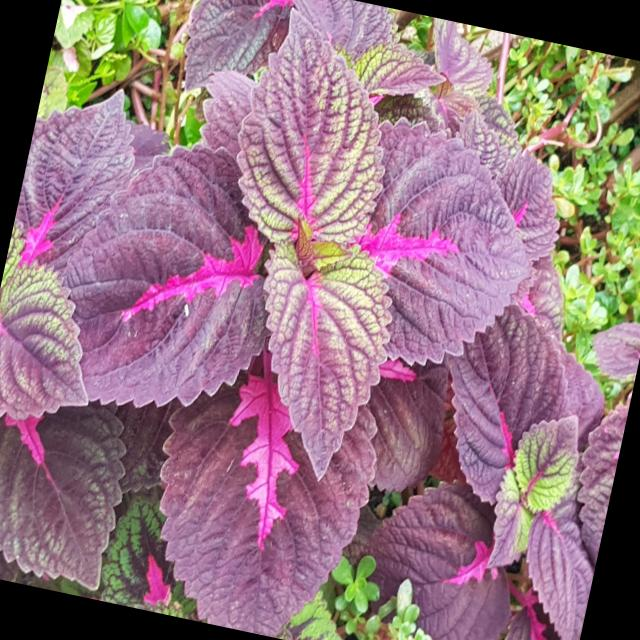Coleus: (48, 7, 608, 620), (354, 290, 632, 640)
